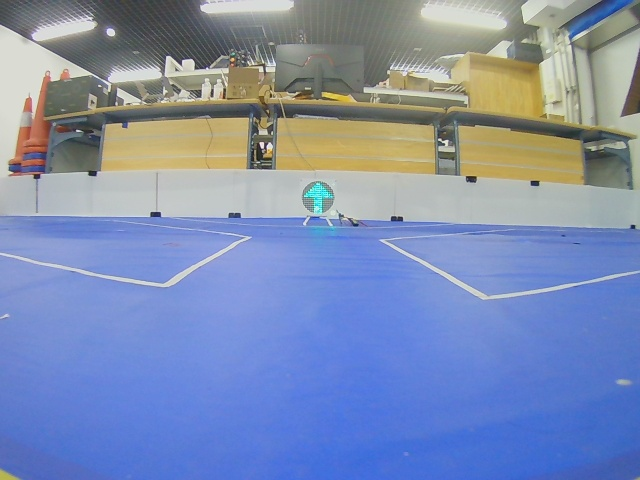straight_green: (302, 181, 335, 216)
